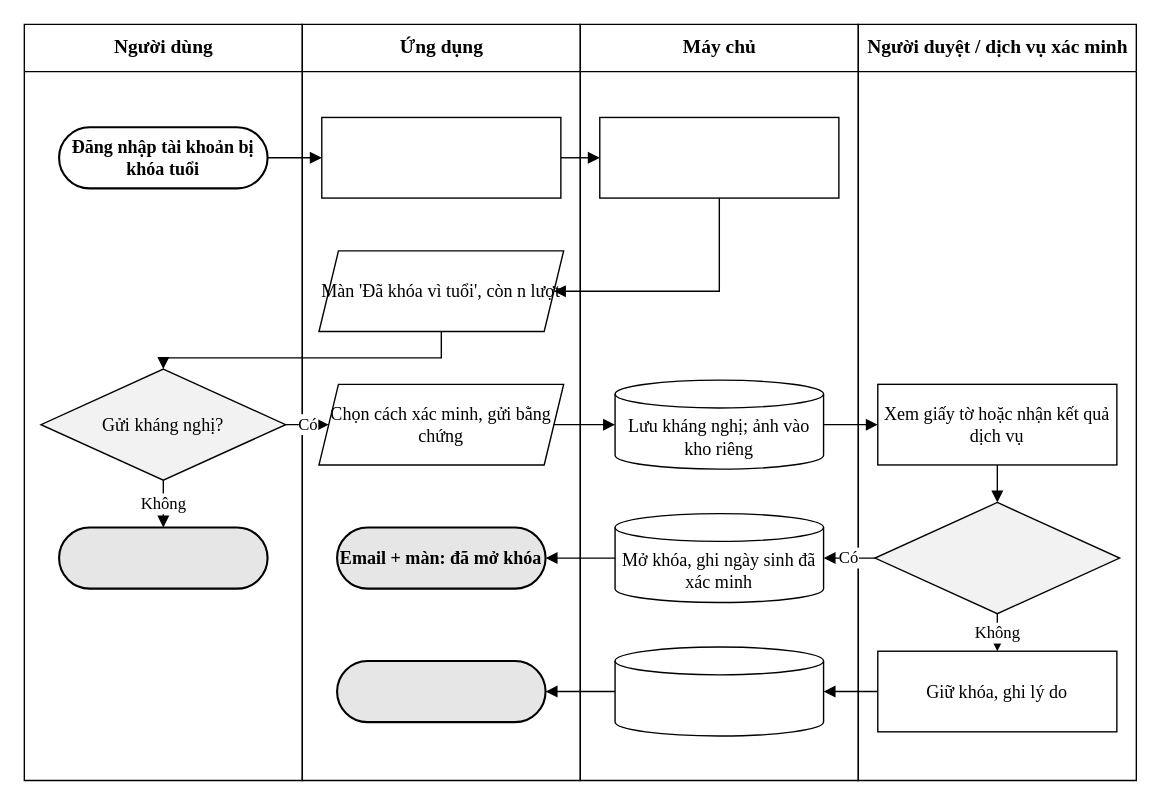
Some shapes in this 1161 by 805 pixel diagram are drawn without their labels. The shapes that lost their labels are listed below. From the top down, each one's centre as x and y in pixels, then its label:
At (x=440, y=157): "Gửi đăng nhập".
At (x=718, y=157): "Trả 401 + mã kháng nghị 15 phút".
At (x=162, y=557): "Đăng xuất; xóa sau 90 ngày".
At (x=997, y=557): "Đủ 18 tuổi?".
At (x=440, y=691): "Email: kháng nghị không đạt".
At (x=719, y=691): "Xóa ảnh giấy tờ sau 30 ngày".
